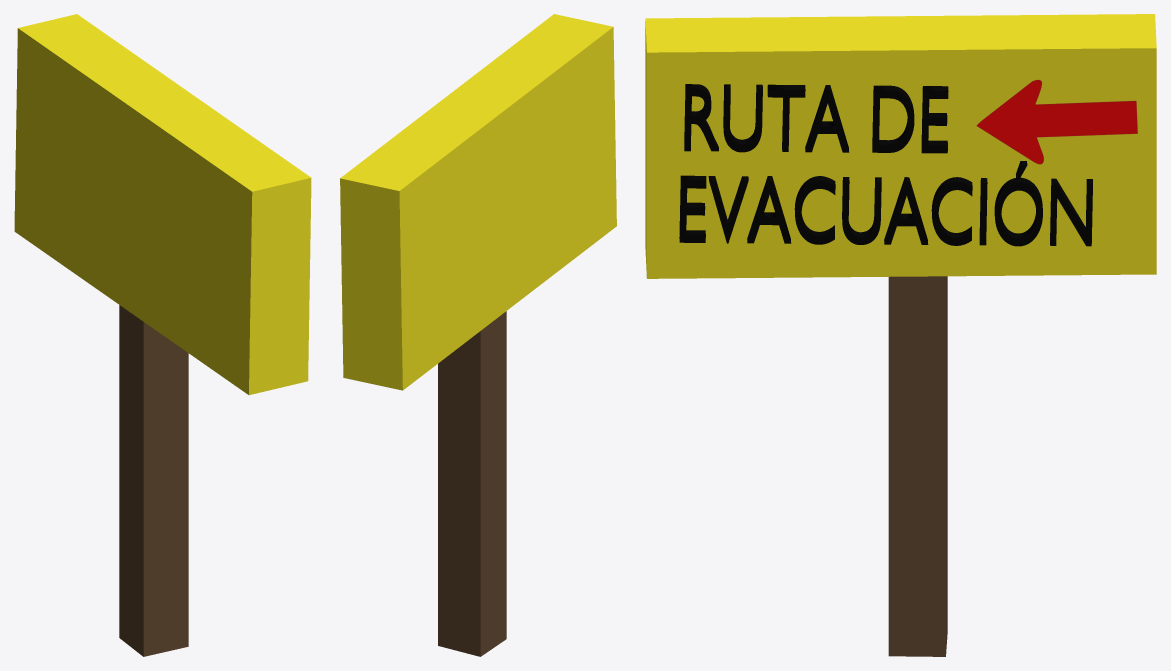
Rendered from RutaEvacuacion1.glb.
3 renders of one model, left to right at view 1: azimuth 30°, elevation 25°; view 2: azimuth 150°, elevation 25°; view 3: azimuth 270°, elevation 25°, orthographic. The views are drawn at different scales.
Parts seen in each view (by area): view 1: Cubo.007, Cubo.001; view 2: Cubo.007, Cubo.001; view 3: Cubo.007, Cubo.001, Texto.003, FlechaCartel.
Boxes of the visible parts, bbox=[...] form: Cubo.007: bbox=[14, 14, 311, 395]; Cubo.001: bbox=[119, 305, 188, 656]; Cubo.007: bbox=[340, 14, 616, 390]; Cubo.001: bbox=[438, 311, 506, 656]; Cubo.007: bbox=[645, 14, 1156, 278]; Cubo.001: bbox=[888, 276, 947, 656]; Texto.003: bbox=[679, 84, 1092, 246]; FlechaCartel: bbox=[976, 80, 1137, 164].
Bounding box in the file's own units: 0.5462 × 3.63 × 2.74.
4 materials, 1 textured.
